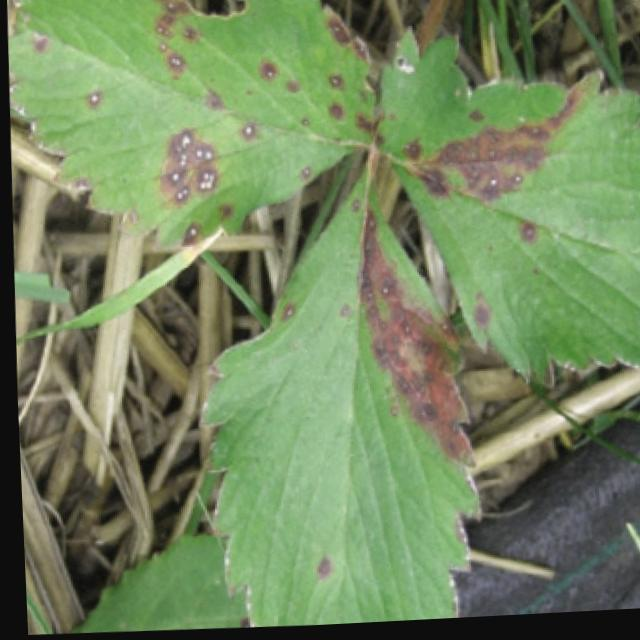Leaf Spot: (190, 163, 481, 629), (376, 27, 640, 397), (6, 0, 377, 252)
